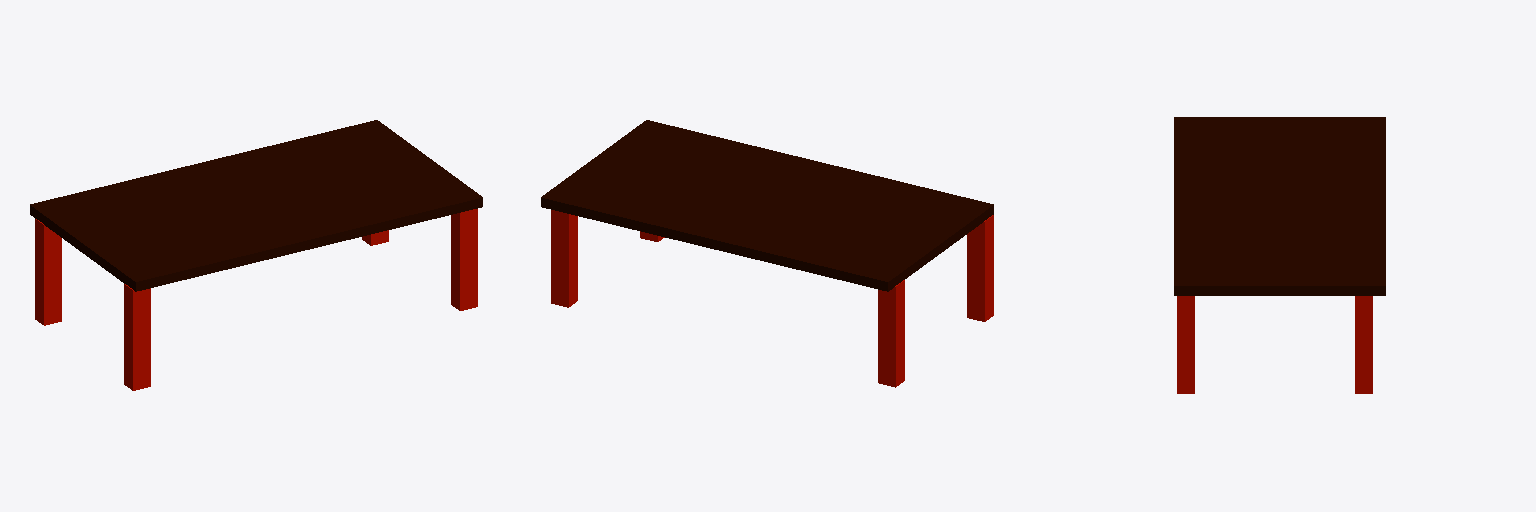
File: table.obj
3 renders of one model, left to right at view 1: azimuth 30°, elevation 25°; view 2: azimuth 150°, elevation 25°; view 3: azimuth 270°, elevation 25°, orthographic.
Visible parts, largest first — view 1: Plane.002, Cube.004, Cube.003, Cube.002; view 2: Plane.002, Cube.002, Cube.004, Cube.005; view 3: Plane.002, Cube.003, Cube.005.
Boxes of the visible parts, box(x1,y1,x2,y2) form: Plane.002: box(30, 120, 482, 291); Cube.004: box(124, 284, 150, 390); Cube.003: box(451, 209, 477, 310); Cube.002: box(35, 219, 61, 325); Plane.002: box(541, 120, 993, 291); Cube.002: box(878, 280, 904, 387); Cube.004: box(967, 215, 993, 321); Cube.005: box(551, 210, 577, 307); Plane.002: box(1174, 117, 1385, 295); Cube.003: box(1177, 296, 1194, 393); Cube.005: box(1355, 296, 1372, 393).
Bounding box in the file's own units: 3.79 × 1.14 × 2.